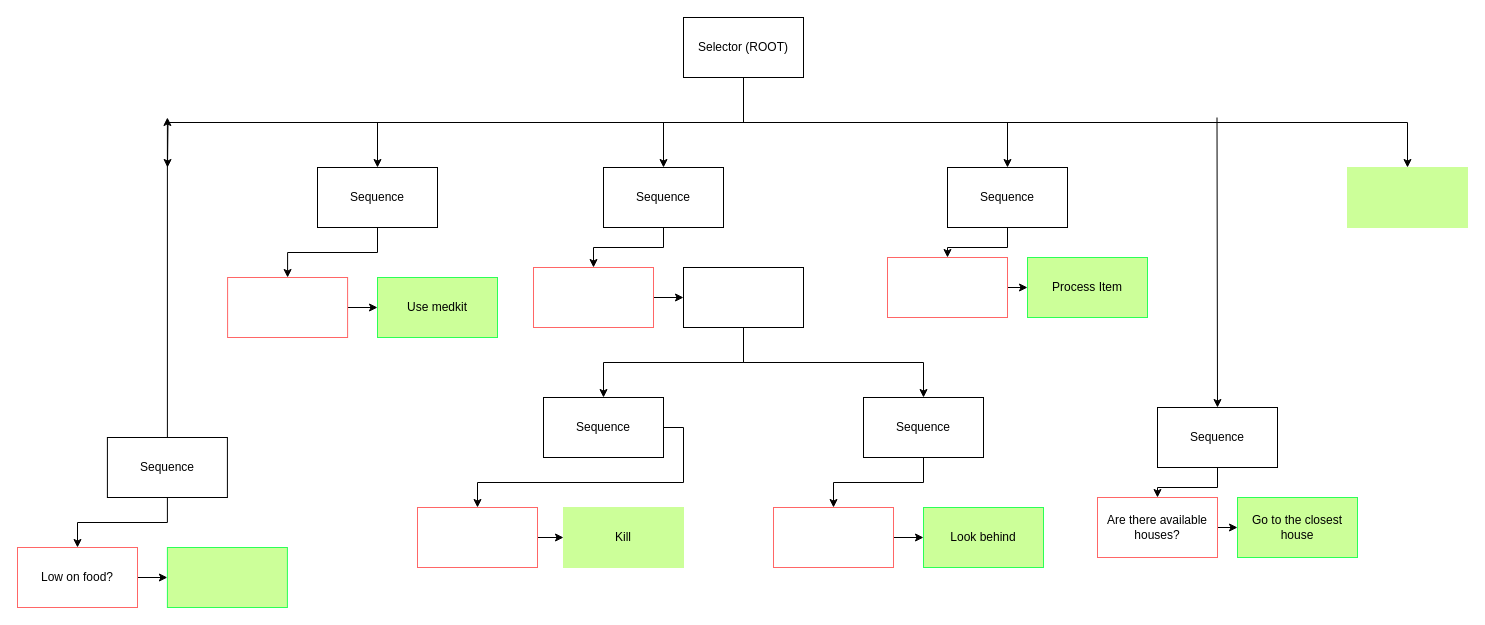
The diagram is 1485 pixels wide and 625 high, and some of its shapes have lost their labels. The centre of each missing label's shape, as x and y in pixels:
"Can see enemy?" goes at point (477, 537).
"Can see item?" goes at point (947, 287).
"Consume food" goes at point (226, 577).
"Explore (using BFS)" goes at point (1407, 197).
"Has ammo?" goes at point (593, 297).
"Low on health" goes at point (287, 307).
"Selector" goes at point (743, 297).
"Was Bitten?" goes at point (833, 537).
